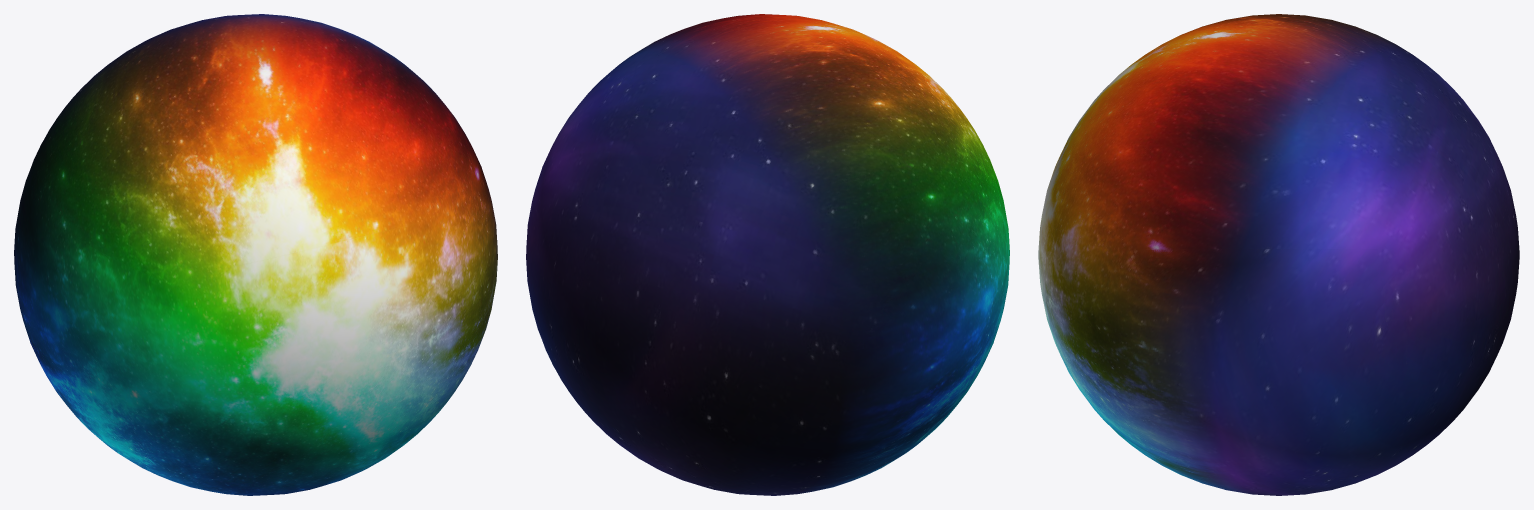
Rendered from abstract_ball.glb.
3 views of the same model, side by side, from view 1: azimuth 30°, elevation 25°; view 2: azimuth 150°, elevation 25°; view 3: azimuth 270°, elevation 25° (orthographic).
Visible parts, largest first — view 1: Object_5; view 2: Object_5; view 3: Object_5.
Part boxes in pixels (x1=…): Object_5: x1=14, y1=14, x2=497, y2=495; Object_5: x1=526, y1=14, x2=1009, y2=495; Object_5: x1=1038, y1=14, x2=1519, y2=495.
Bounding box in the file's own units: 0.2649 × 0.2633 × 0.2633.
1 material, 1 textured.
